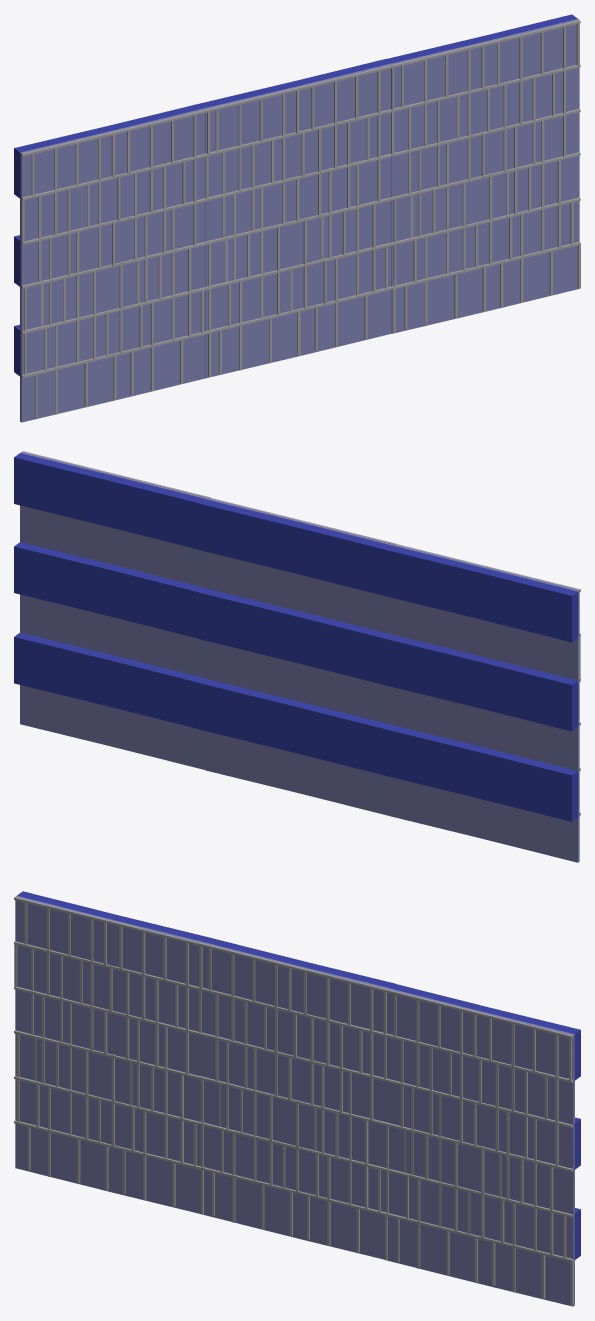
Rendered from GlassWallStraight.fbx.
The picture shows the model from 3 angles, top to bottom: view 1: azimuth 30°, elevation 25°; view 2: azimuth 150°, elevation 25°; view 3: azimuth 330°, elevation 25°; orthographic projection.
Parts seen in each view (by area): view 1: pCube63, pCube62; view 2: pCube62, pCube63; view 3: pCube63, pCube62.
Boxes of the visible parts, bbox=[...] form: pCube63: bbox=[20, 19, 579, 422]; pCube62: bbox=[14, 14, 580, 417]; pCube62: bbox=[14, 451, 580, 821]; pCube63: bbox=[20, 452, 579, 862]; pCube63: bbox=[15, 896, 574, 1306]; pCube62: bbox=[14, 891, 580, 1306].
Size of the model in its own units: 12.96 by 5.99 by 0.4559.
